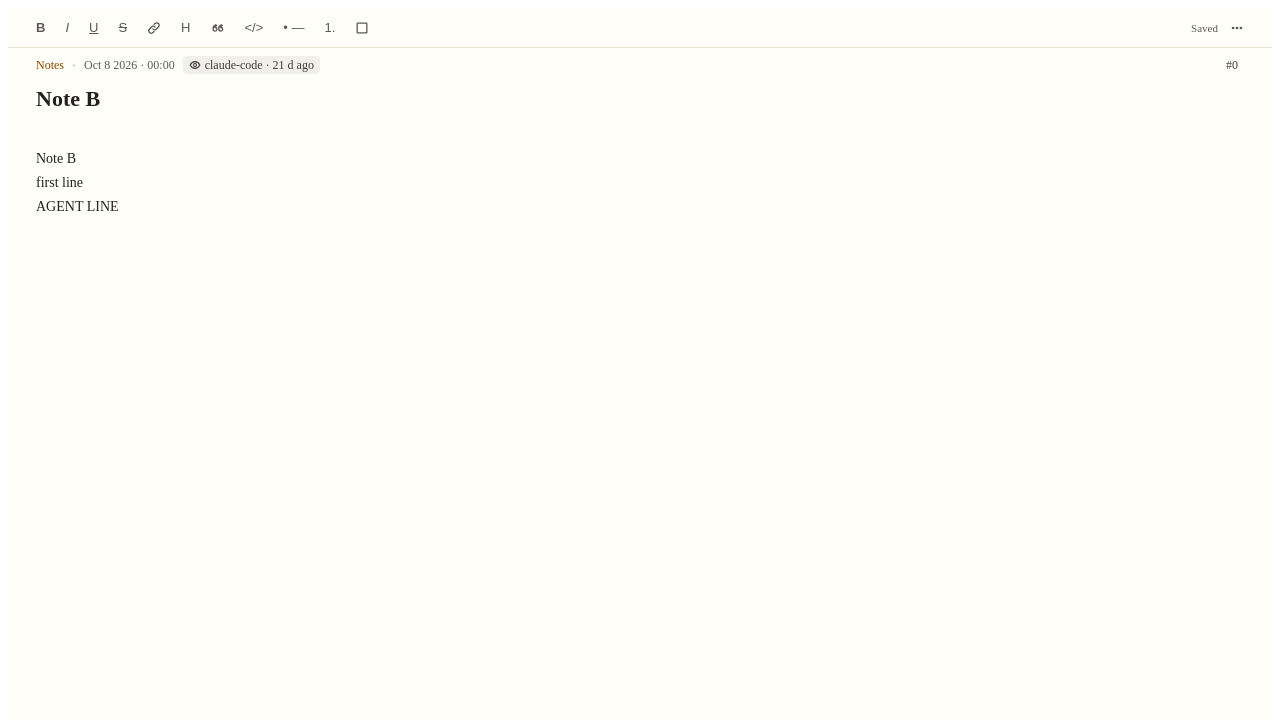
Test: Mark reviewed on an agent note that has not been pushed yet › the re-read renders the agent body and Mark reviewed verifies it
Expected: the field with class "editor-body" shows "AGENT LINE", [36,151,119,214]
Click the button with test id "trust-chip". click: (251, 65)
box: [183,56,320,74]
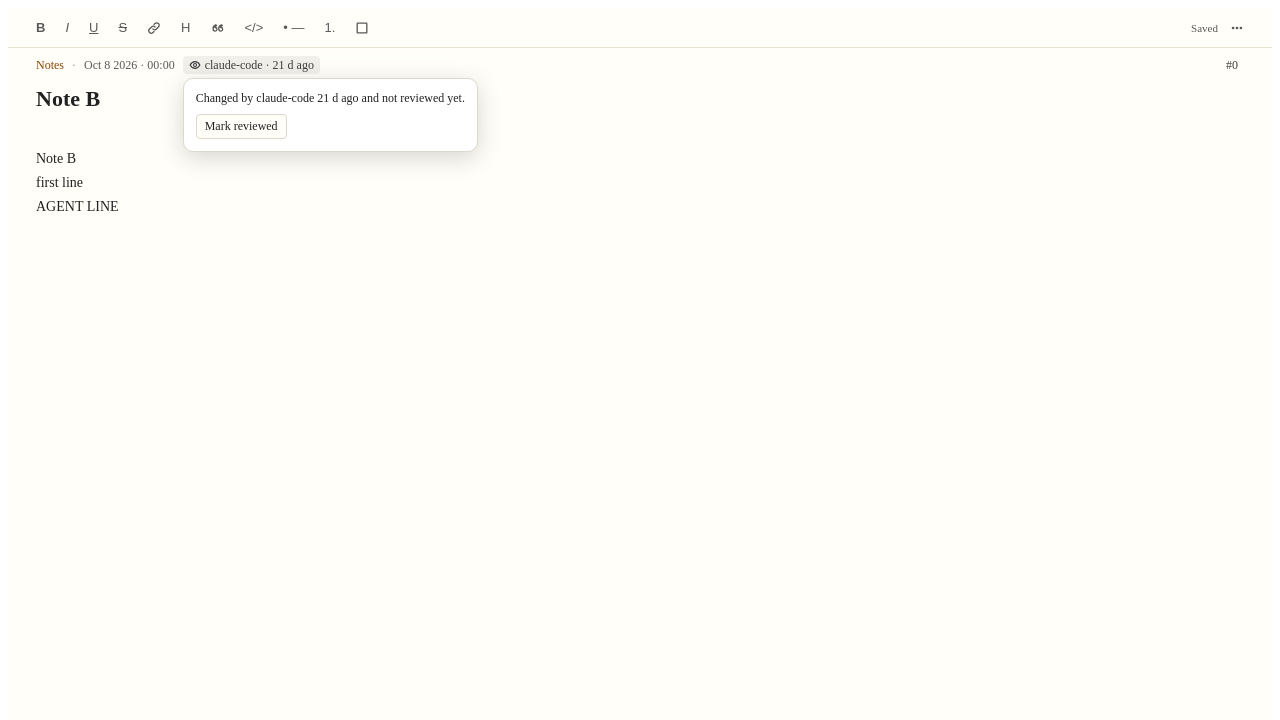
Expected: the button with class "mark-reviewed-btn" is enabled
Click the button with class "mark-reviewed-btn". click: (241, 126)
box: [196,114,287,139]
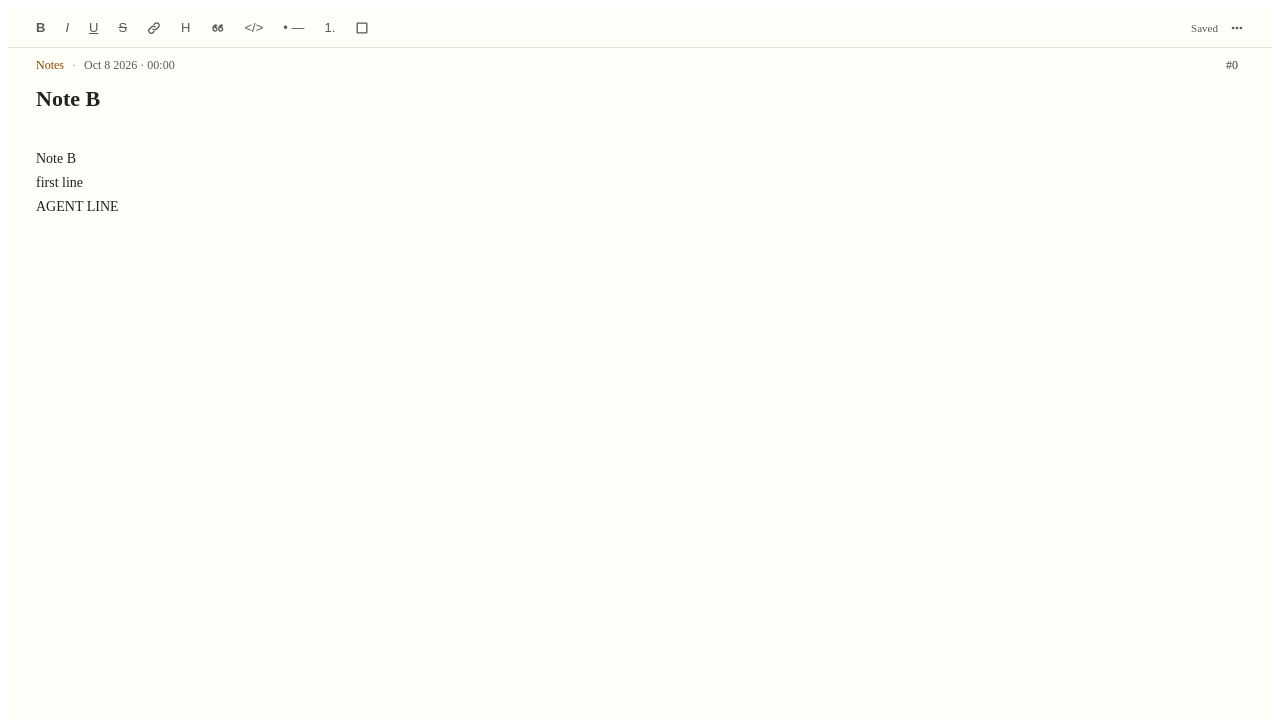
Expected: the button with test id "trust-chip" is gone
